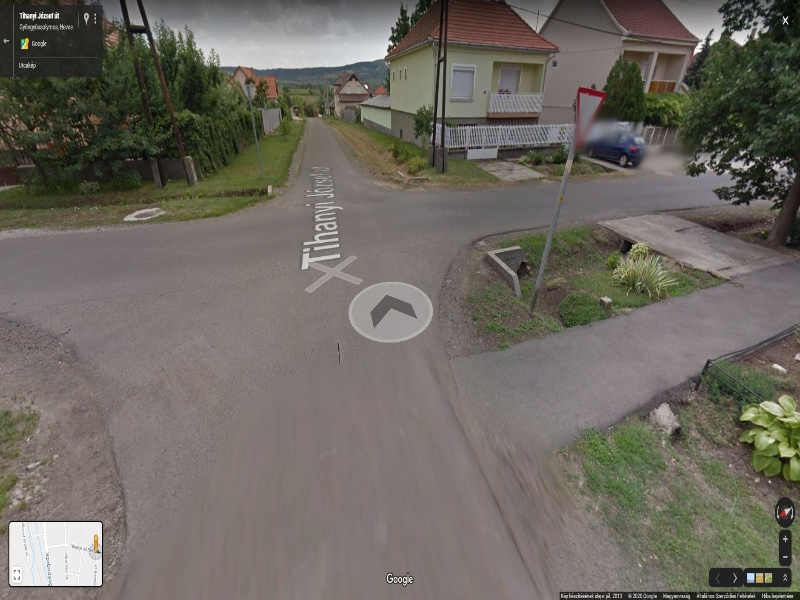elsobbseg: (572, 84, 604, 143)
